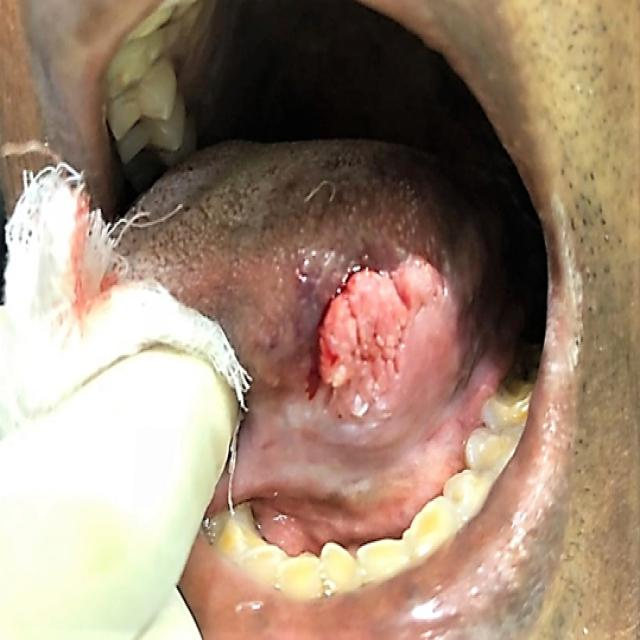cancer-detection: (302, 252, 458, 429)
processing_area: (126, 135, 515, 558)
